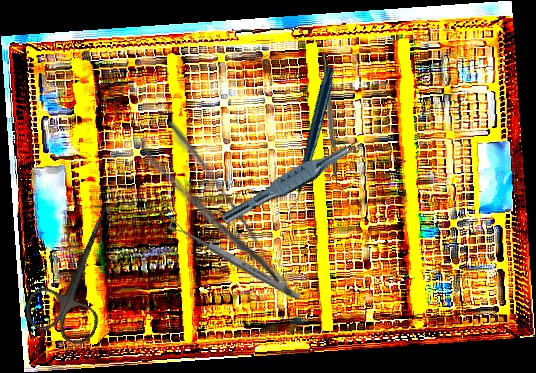Chopper: (321, 52, 346, 194)
Dressing Forceps: (135, 117, 298, 320)
Handpiece: (233, 64, 386, 212)
Iris Scissors: (19, 194, 141, 350)
Surgical Spoon: (167, 218, 303, 303)
Tissue Forceps: (220, 130, 365, 233)
